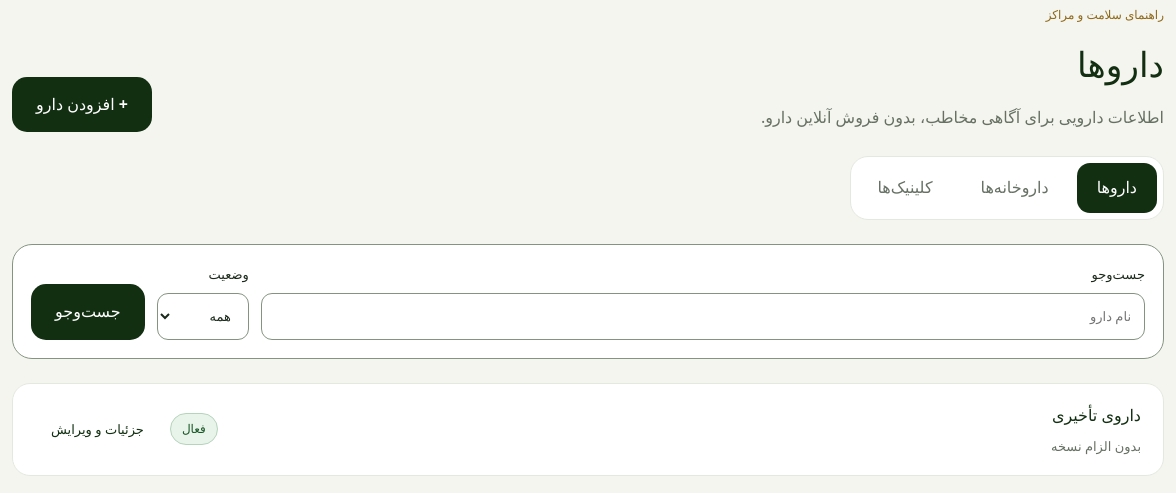
Test: ignores a delayed medicine detail after switching to pharmacies
expect the text "داروی تأخیری" is shown: met, box x1=1051 y1=402 x2=1141 y2=429
What coordinates should you click on to do the following:
click the button "جزئیات و ویرایش"
I would click on:
 (97, 429)
Its box is x1=35 y1=407 x2=160 y2=451.
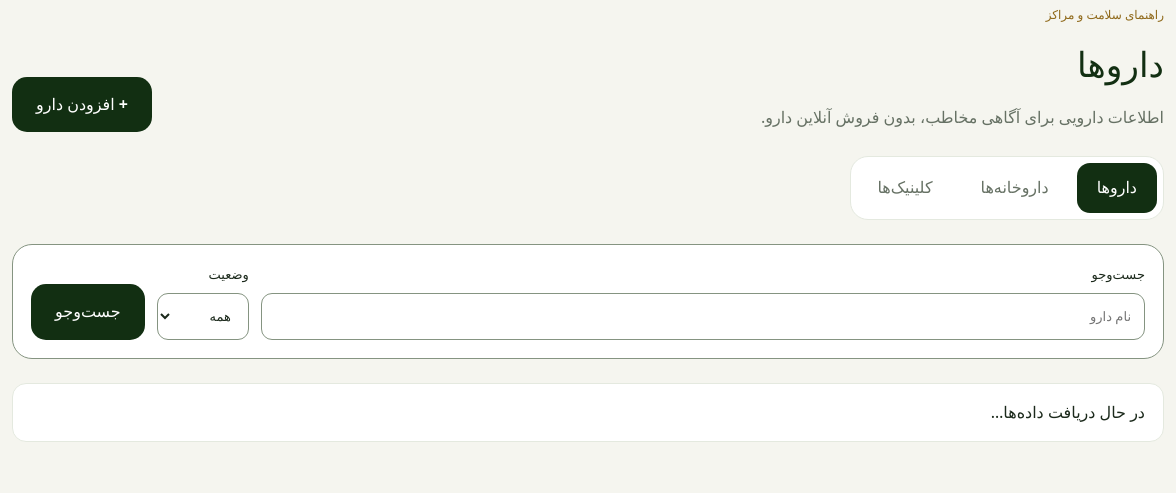
What coordinates should you click on to do the following:
click the button "داروخانه‌ها"
I would click on:
 (1015, 188)
Its box is x1=960 y1=163 x2=1069 y2=212.
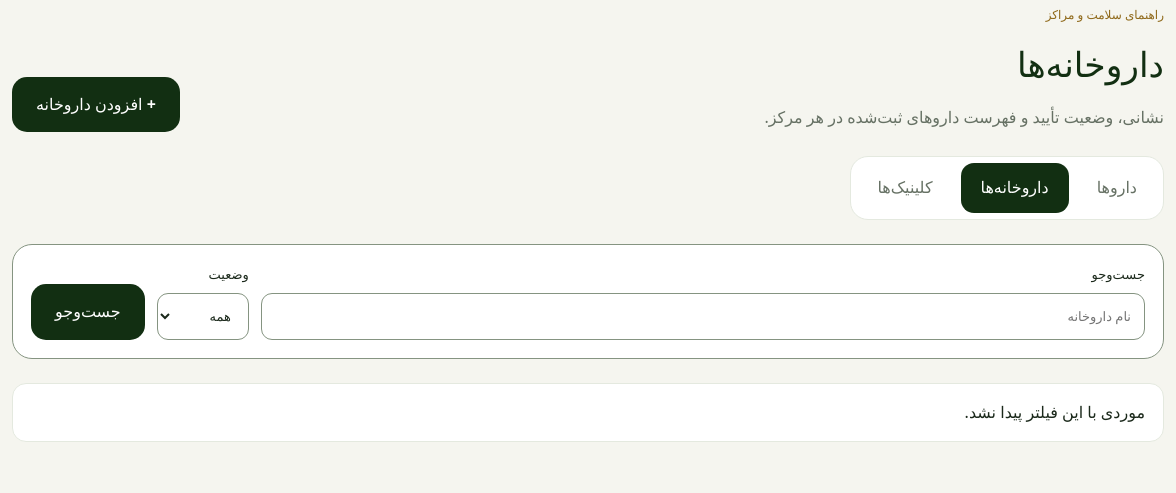
expect the heading "داروخانه‌ها" is shown: met, box x1=1017 y1=40 x2=1164 y2=87
